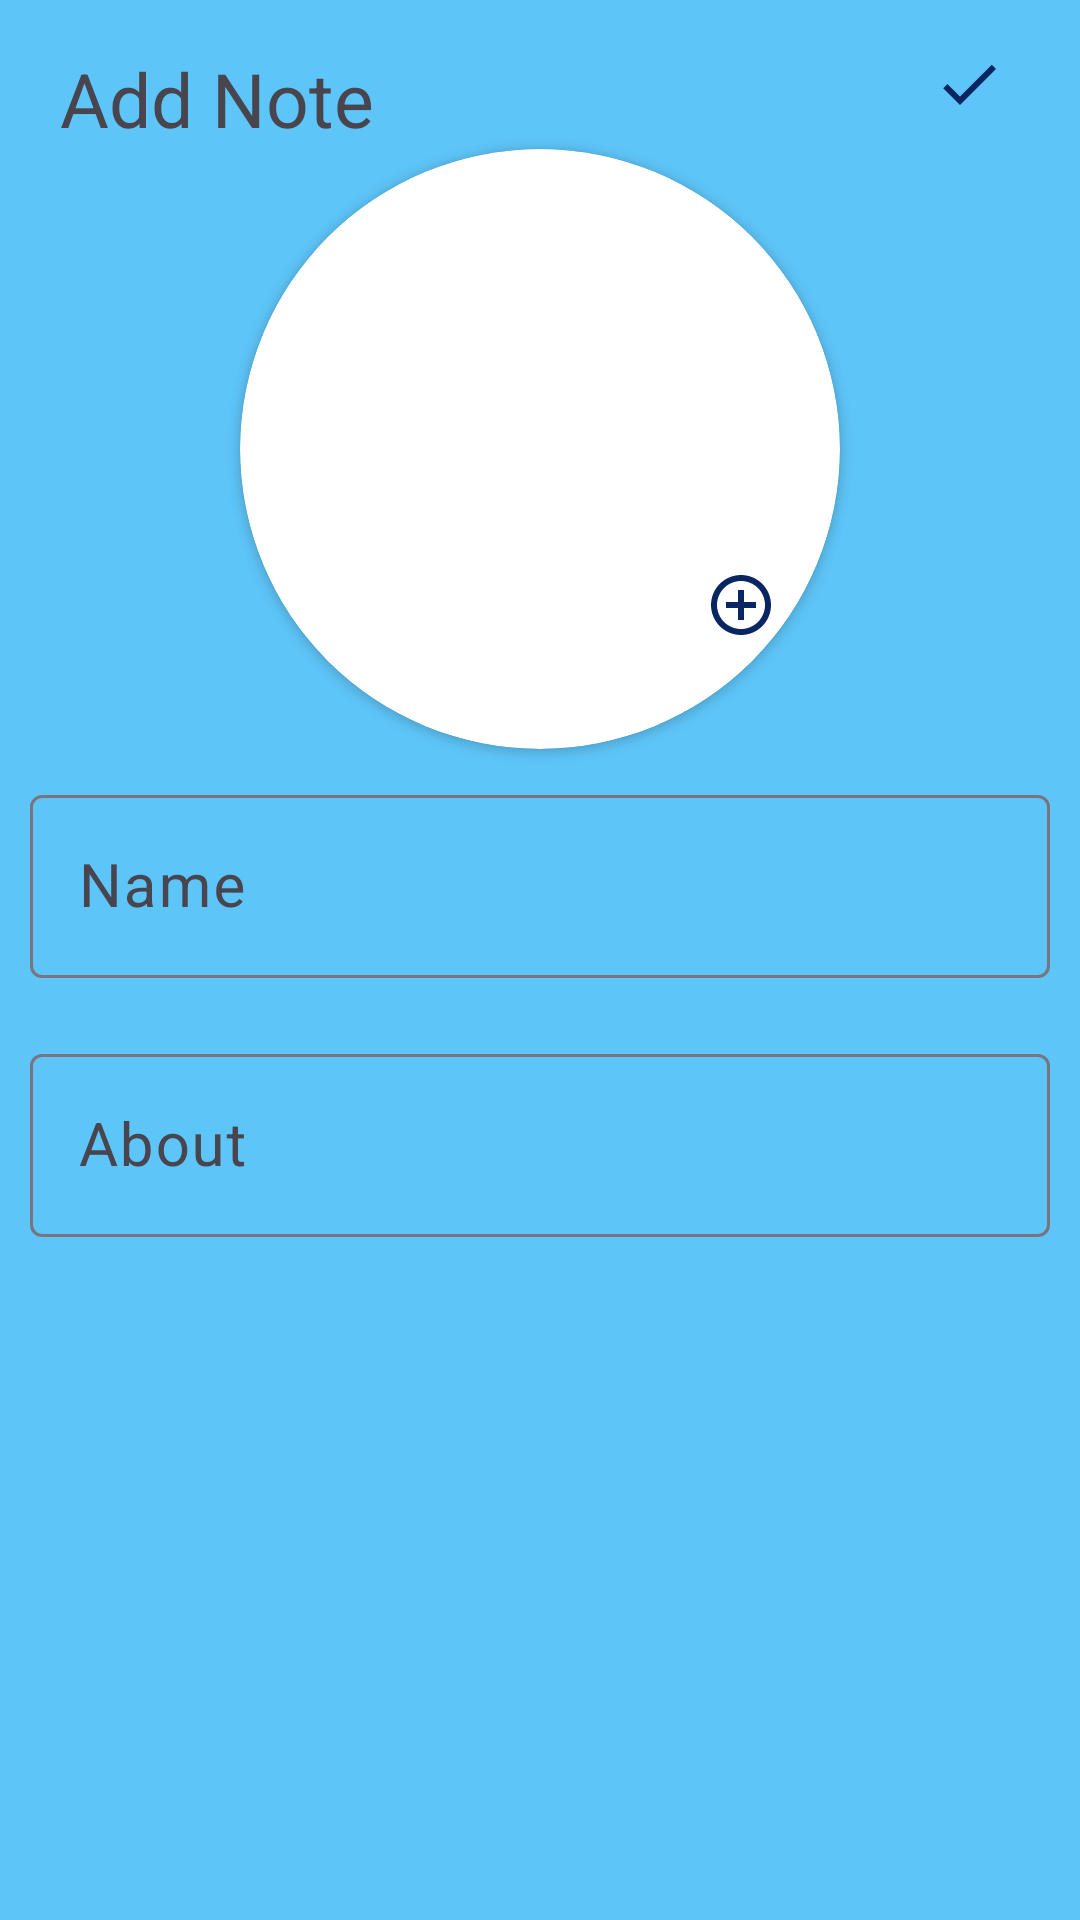

Named icons in this screenshot (1080 × 1920) and their bounding boxes, region(x1, y1, x2, y2):
add circle: region(711, 575, 771, 635)
done: region(943, 65, 996, 105)
